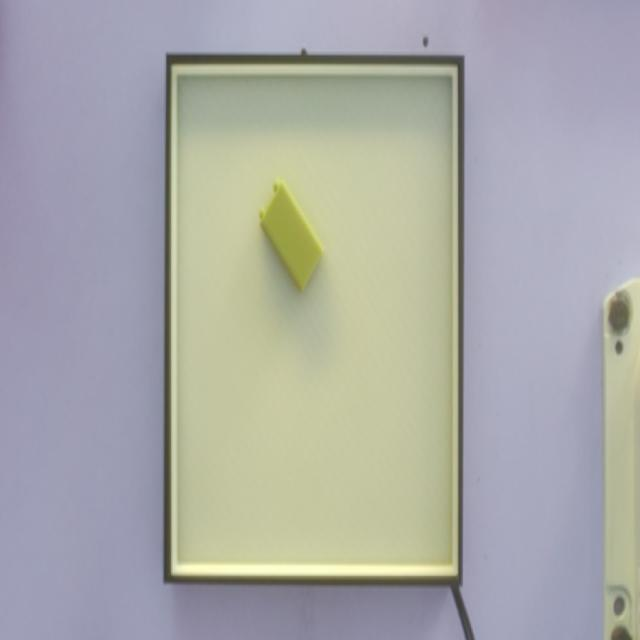bateria: (257, 178, 326, 293)
mesa: (163, 55, 464, 584)
